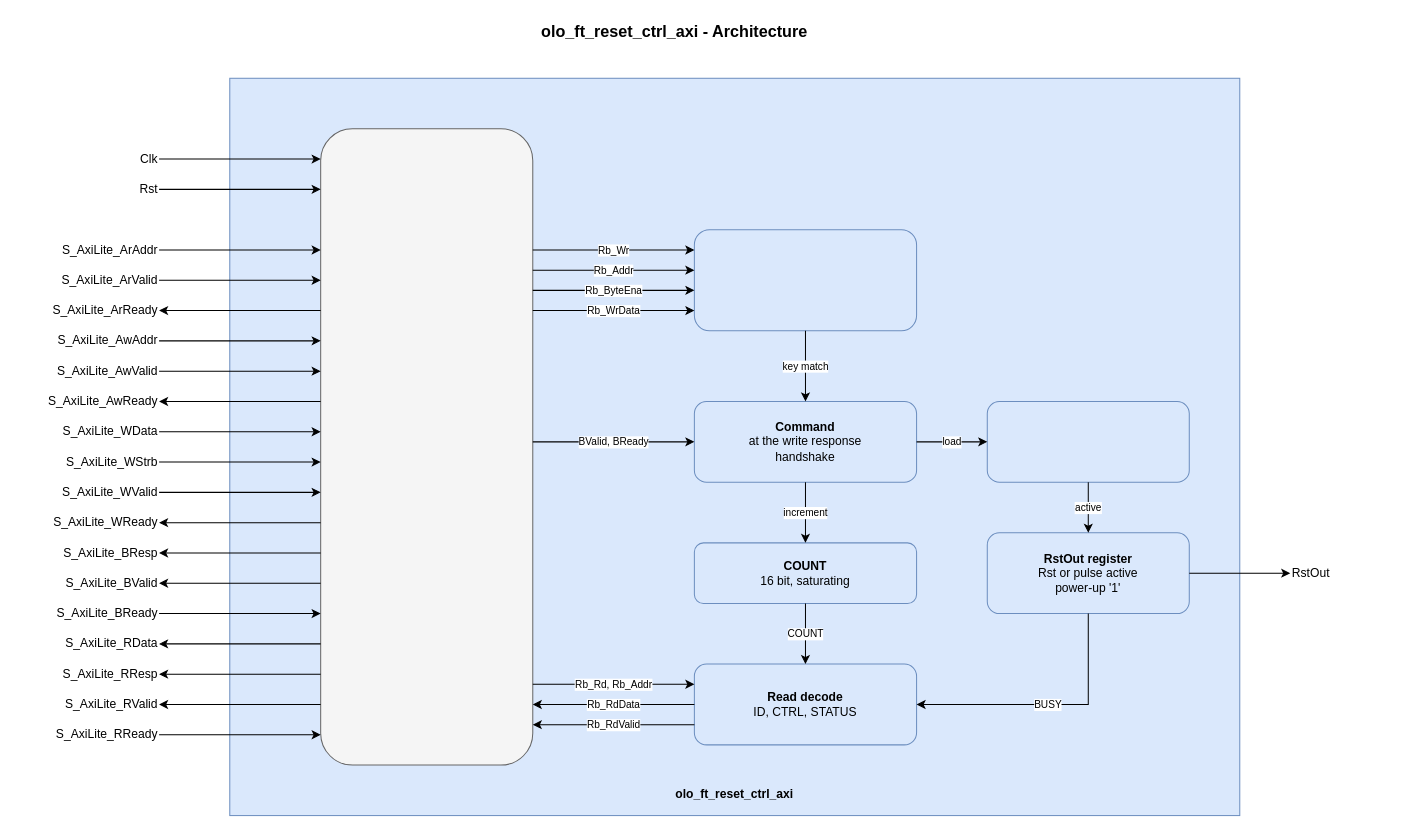
This 1408x833 diagram has some shape labels left out. Here are the shapes that lost their labels. From the top down, the box of each, then its label:
(693, 229, 917, 331): Key compare write to CTRL, data = Key_g, WStrb = "1111"; KeyPend
(320, 128, 533, 765): olo_axi_lite_slave
(986, 400, 1189, 482): Pulse counter loaded with RstPulseCycles_g
